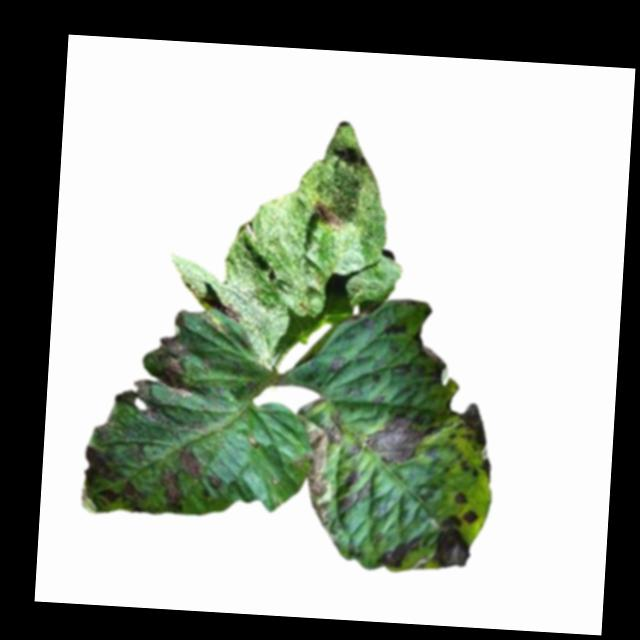Early_blight: (80, 423, 143, 516), (361, 406, 439, 467), (300, 409, 339, 530), (110, 377, 178, 429), (152, 307, 197, 383), (452, 402, 496, 479), (427, 507, 477, 569), (155, 468, 189, 513), (336, 474, 370, 516), (377, 535, 419, 569), (309, 198, 344, 232), (177, 443, 203, 480), (220, 300, 242, 322), (382, 320, 409, 337), (325, 354, 347, 374), (342, 469, 360, 489), (451, 488, 472, 504)
